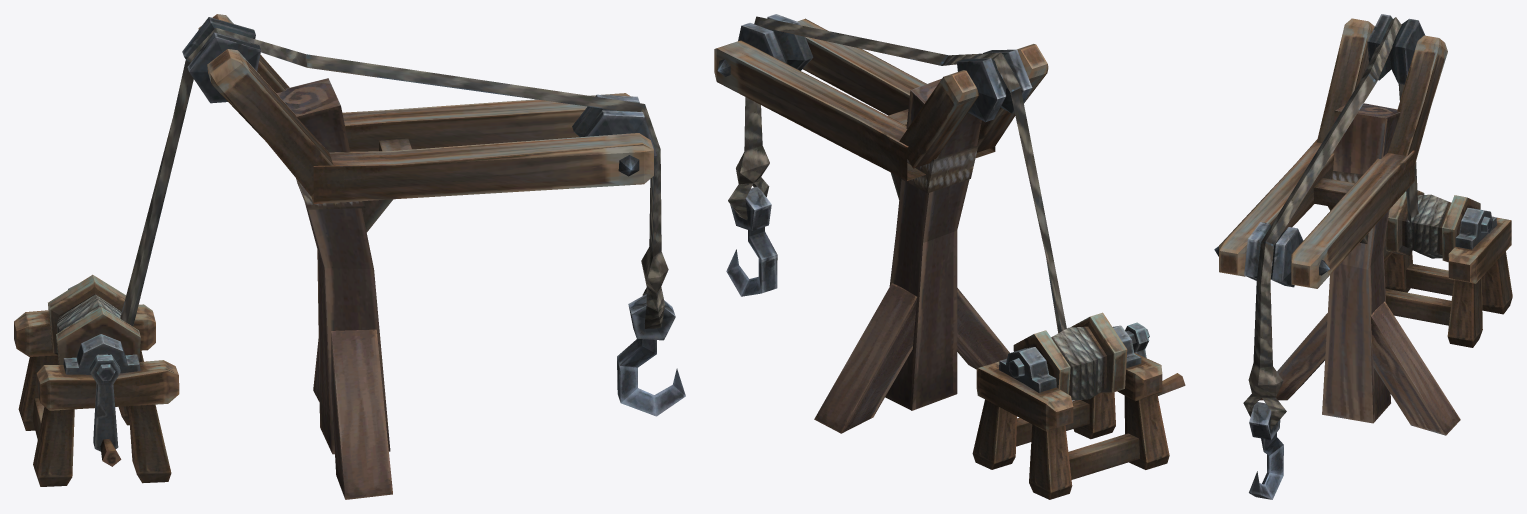
The model's file is object_pulley.fbx.
3 views of the same model, side by side, from view 1: azimuth 30°, elevation 25°; view 2: azimuth 150°, elevation 25°; view 3: azimuth 270°, elevation 25° (orthographic). The views are drawn at different scales.
Parts seen in each view (by area): view 1: obj2.008; view 2: obj2.008; view 3: obj2.008.
Boxes of the visible parts, x1,y1,x2,y2 form: obj2.008: [14, 14, 685, 499]; obj2.008: [714, 14, 1185, 499]; obj2.008: [1214, 14, 1512, 499].
Bounding box in the file's own units: 7.07 × 5.07 × 3.93.
